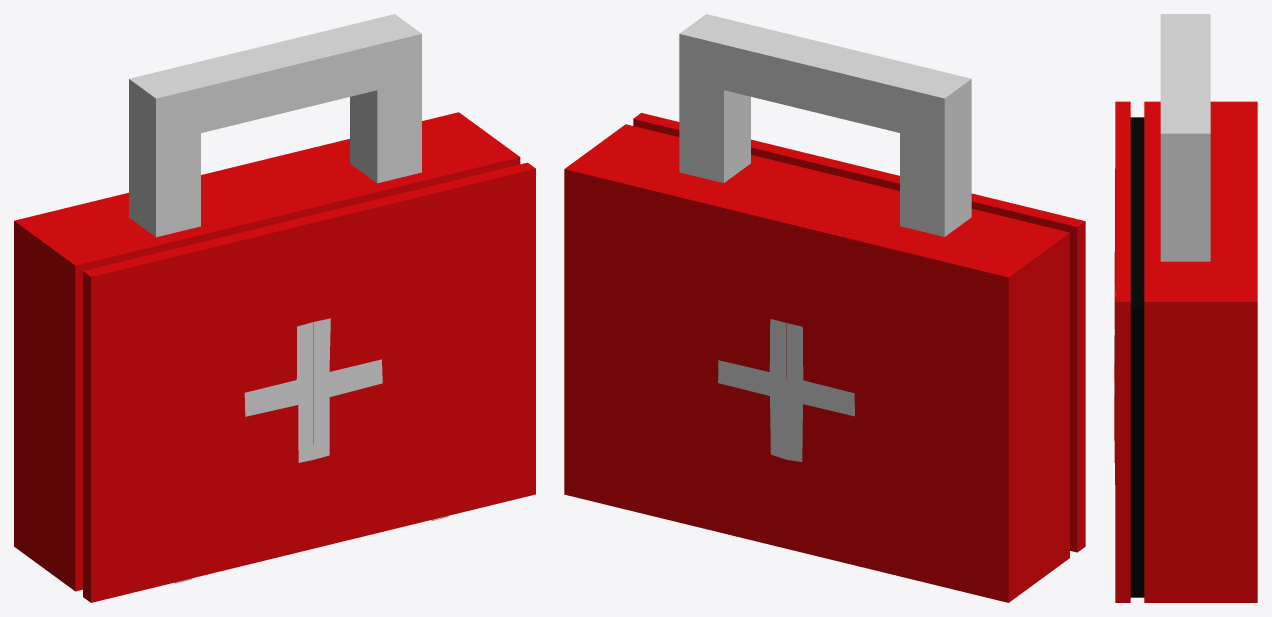
File: First_aid_kit.glb
3 views of the same model, side by side, from view 1: azimuth 30°, elevation 25°; view 2: azimuth 150°, elevation 25°; view 3: azimuth 270°, elevation 25° (orthographic). The views are drawn at different scales.
Parts seen in each view (by area): view 1: Cube; view 2: Cube; view 3: Cube.
Boxes of the visible parts, x1,y1,x2,y2 form: Cube: [14, 14, 535, 602]; Cube: [564, 14, 1085, 602]; Cube: [1114, 14, 1257, 602].
Bounding box in the file's own units: 2 × 2.01 × 0.6048.
